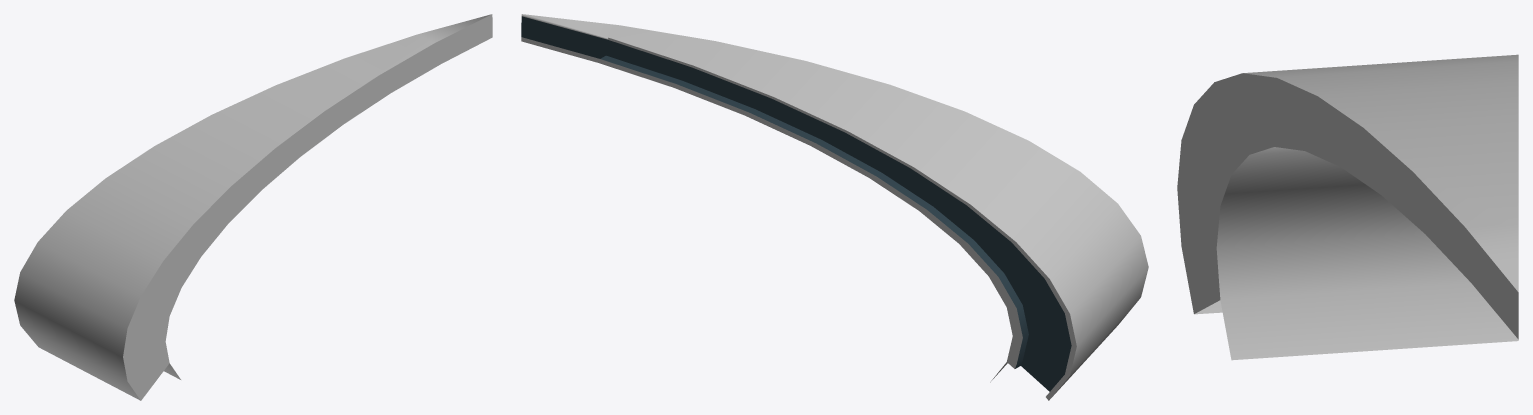
The model's file is level_endpiece.fbx.
3 renders of one model, left to right at view 1: azimuth 30°, elevation 25°; view 2: azimuth 150°, elevation 25°; view 3: azimuth 270°, elevation 25°, orthographic. The views are drawn at different scales.
Parts seen in each view (by area): view 1: level_endpiece; view 2: level_endpiece; view 3: level_endpiece.
Part boxes in pixels (<box>): level_endpiece: <box>14,14,492,400</box>; level_endpiece: <box>521,14,1148,400</box>; level_endpiece: <box>1177,54,1518,360</box>.
Size of the model in its own units: 28.28 by 12.57 by 8.74.
